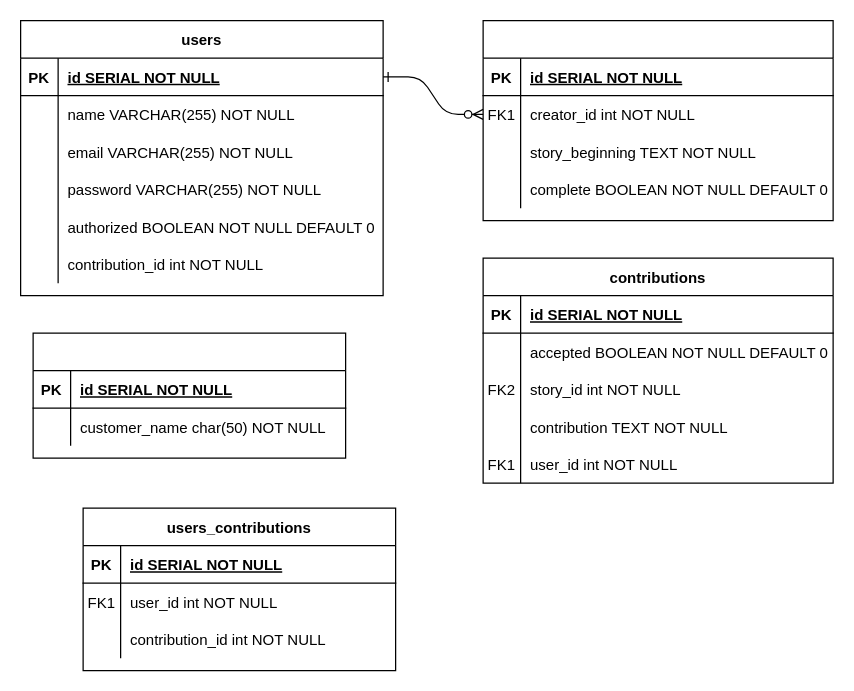
Image size: 854x691. Some labels were removed from this diagram. Each missing label, with the box of its shape:
stories: (482, 19, 833, 221)
upvotes: (32, 332, 346, 458)
